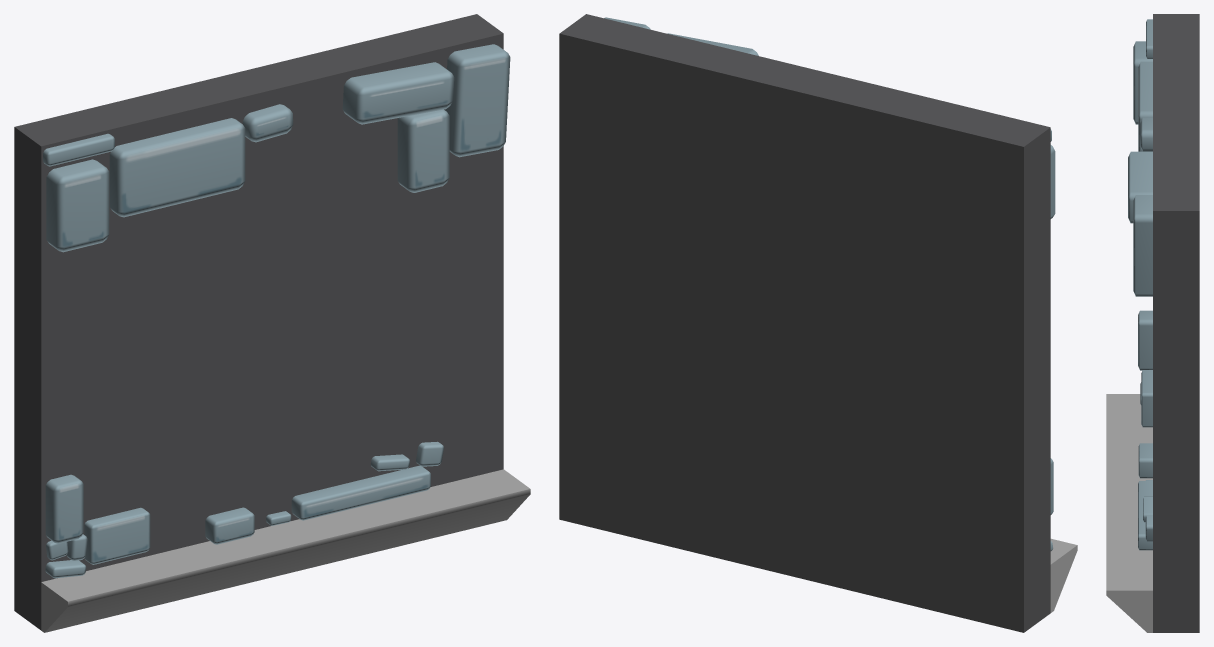
Rendered from Wall Run Wall Textured.fbx.
The picture shows the model from 3 angles, left to right: view 1: azimuth 30°, elevation 25°; view 2: azimuth 150°, elevation 25°; view 3: azimuth 270°, elevation 25°; orthographic projection. The views are drawn at different scales.
Visible parts, largest first — view 1: Wall_Run_Wall; view 2: Wall_Run_Wall; view 3: Wall_Run_Wall.
Part boxes in pixels (<box>): Wall_Run_Wall: <box>14,14,530,632</box>; Wall_Run_Wall: <box>559,14,1077,632</box>; Wall_Run_Wall: <box>1106,14,1199,632</box>.
Size of the model in its own units: 10 by 10 by 2.
